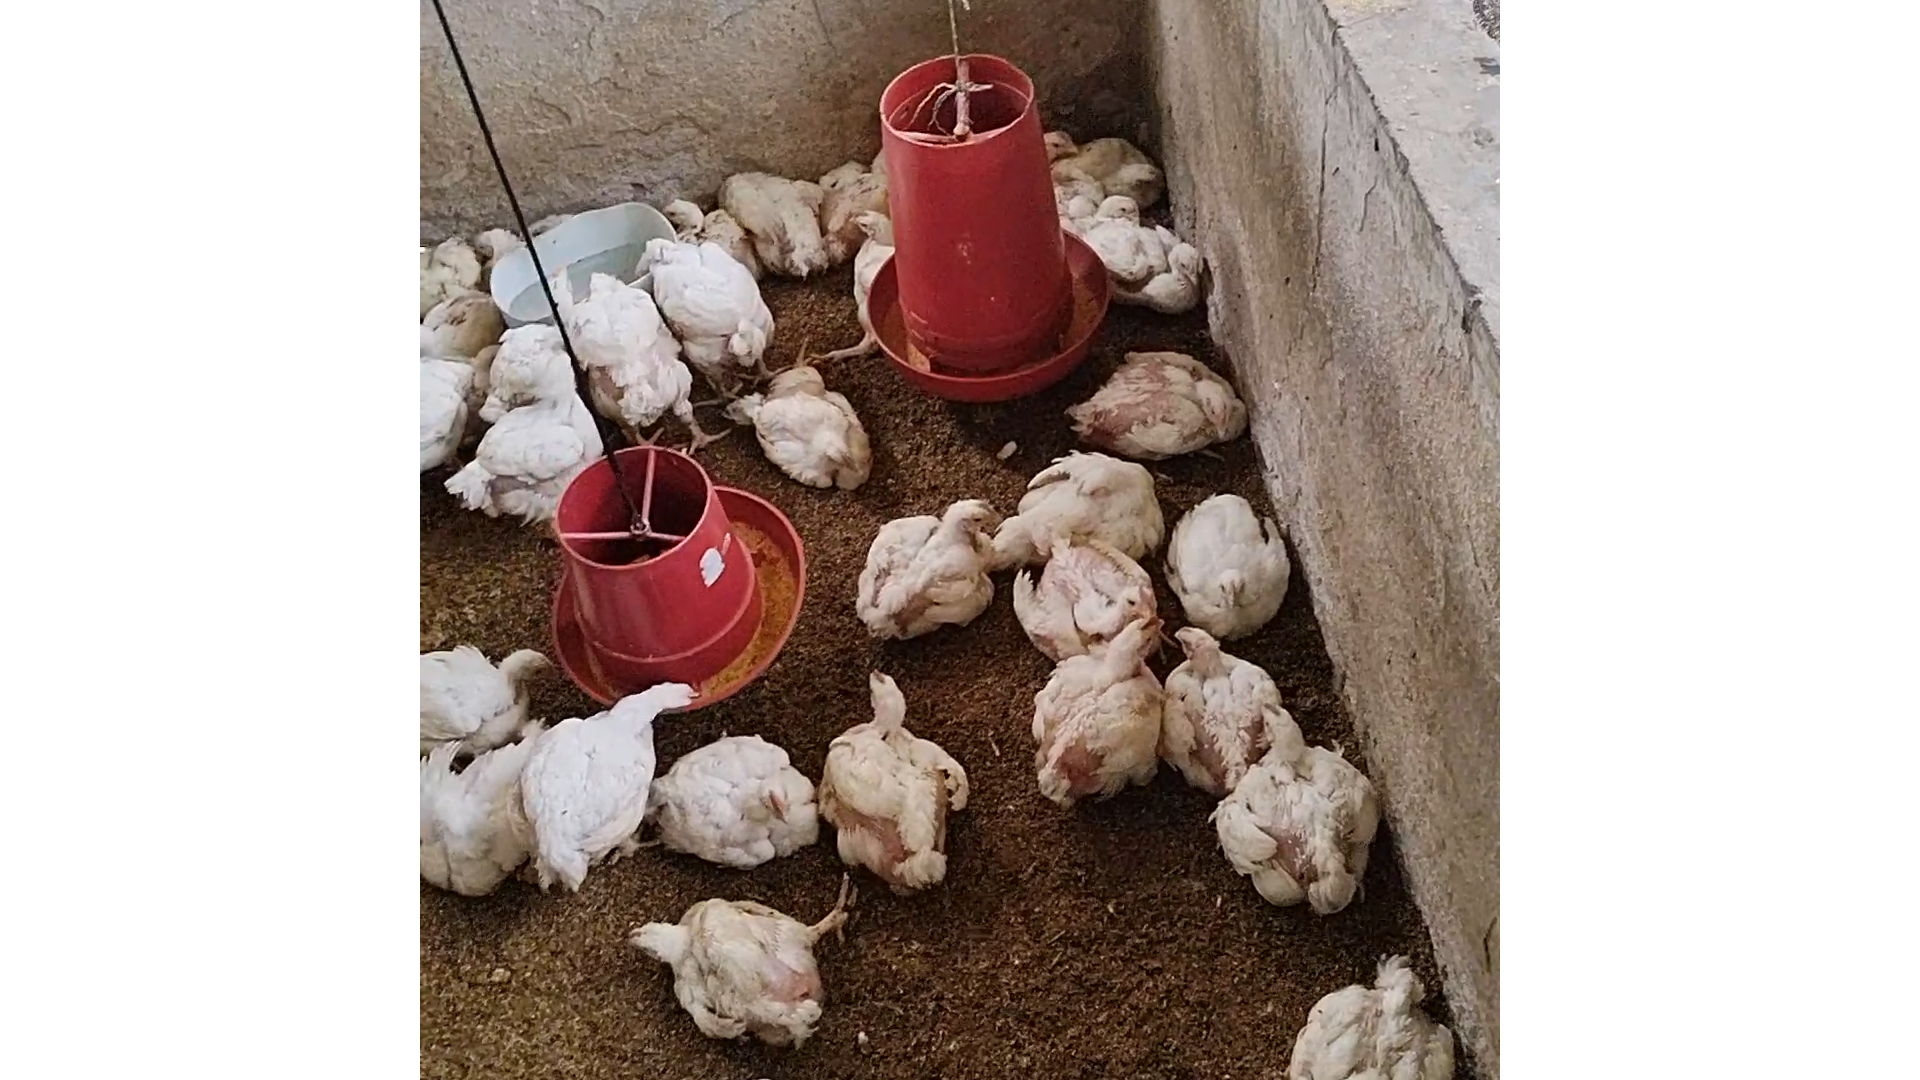Pollos: (616, 889, 886, 1063), (1205, 694, 1377, 928), (524, 674, 707, 891), (825, 662, 981, 899), (634, 721, 836, 893), (1010, 611, 1180, 814), (562, 248, 716, 462), (1044, 332, 1276, 472), (723, 332, 890, 508), (833, 479, 1001, 649), (992, 425, 1182, 574), (1156, 477, 1309, 655), (1282, 953, 1486, 1080), (669, 152, 852, 282), (1160, 632, 1294, 804), (1077, 203, 1240, 338), (417, 723, 524, 924), (634, 225, 785, 361), (454, 396, 596, 529), (422, 617, 556, 756), (483, 323, 600, 431), (1076, 105, 1180, 214), (417, 345, 485, 477), (469, 214, 520, 262), (1026, 123, 1077, 162)
